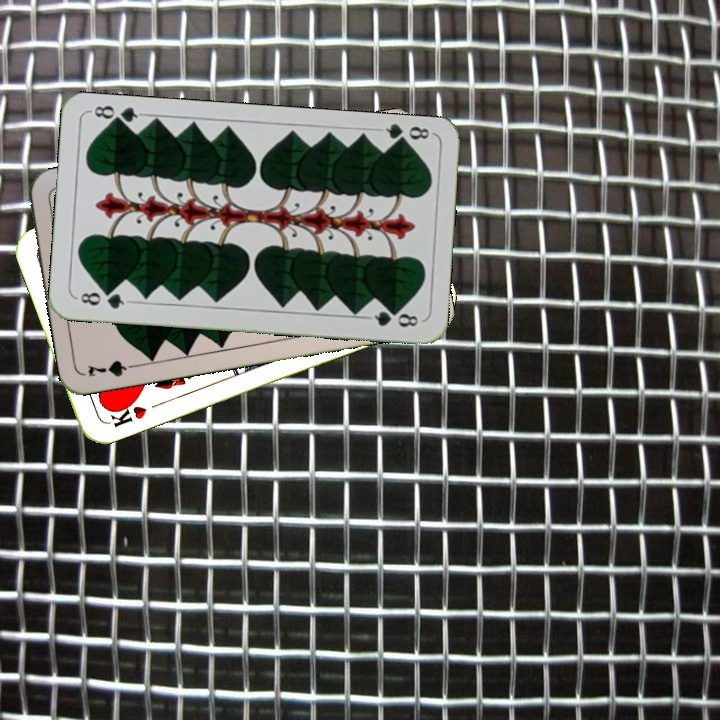G7: (83, 356, 143, 379)
G8: (375, 120, 435, 149), (73, 287, 132, 312)
HK: (104, 396, 149, 430)
